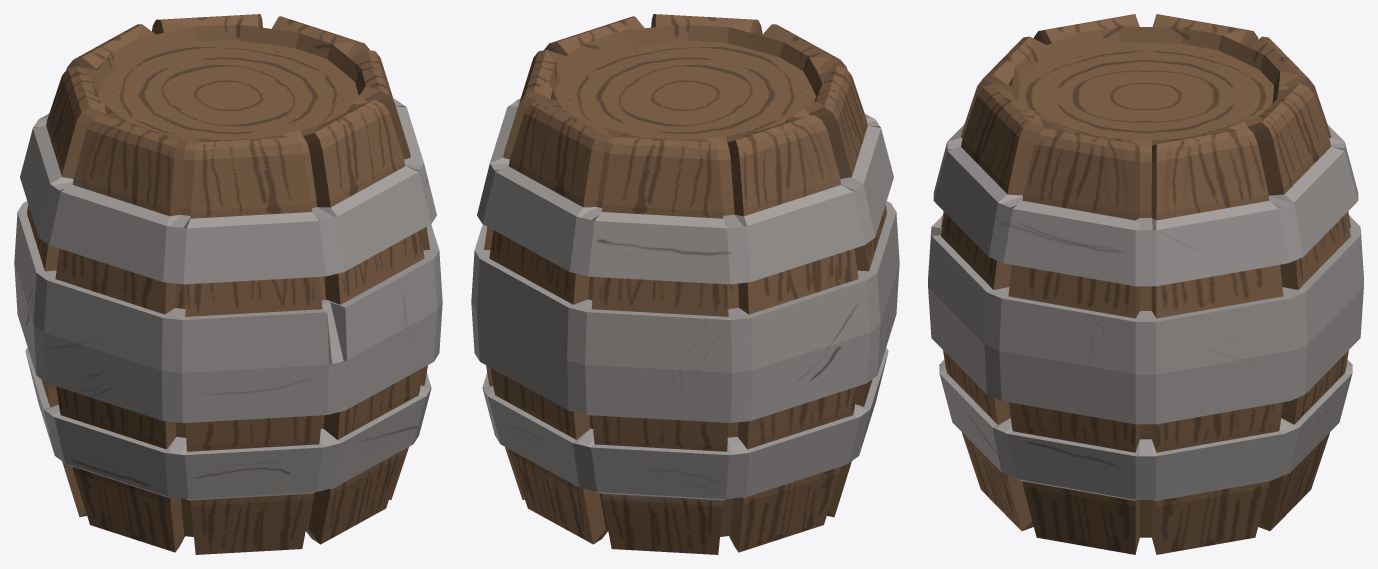
File: barrel 1.fbx
3 renders of one model, left to right at view 1: azimuth 30°, elevation 25°; view 2: azimuth 150°, elevation 25°; view 3: azimuth 270°, elevation 25°, orthographic.
Parts seen in each view (by area): view 1: barrel; view 2: barrel; view 3: barrel.
Part boxes in pixels (x1,y1,x2,y2): barrel: [14, 14, 442, 554]; barrel: [471, 14, 899, 554]; barrel: [928, 14, 1363, 554].
Size of the model in its own units: 0.9996 by 1.03 by 0.9996.
